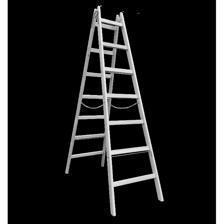Ladder: (115, 21, 217, 198), (45, 12, 128, 196)
